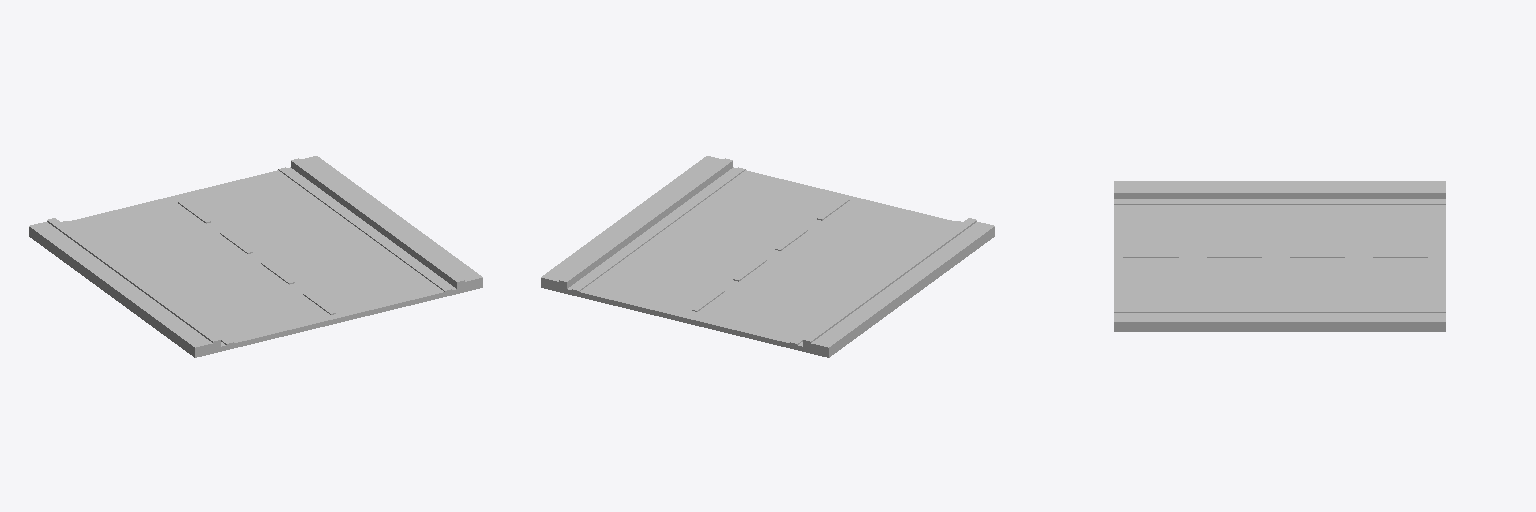
The model's file is road_I_1.obj.
The picture shows the model from 3 angles: view 1: azimuth 30°, elevation 25°; view 2: azimuth 150°, elevation 25°; view 3: azimuth 270°, elevation 25°; orthographic projection.
Parts seen in each view (by area): view 1: road_I_1_roads_material; view 2: road_I_1_roads_material; view 3: road_I_1_roads_material.
Boxes of the visible parts, x1=… form: road_I_1_roads_material: x1=29, y1=156, x2=482, y2=357; road_I_1_roads_material: x1=541, y1=156, x2=994, y2=357; road_I_1_roads_material: x1=1114, y1=181, x2=1445, y2=331.
Size of the model in its own units: 12 by 0.4753 by 12.